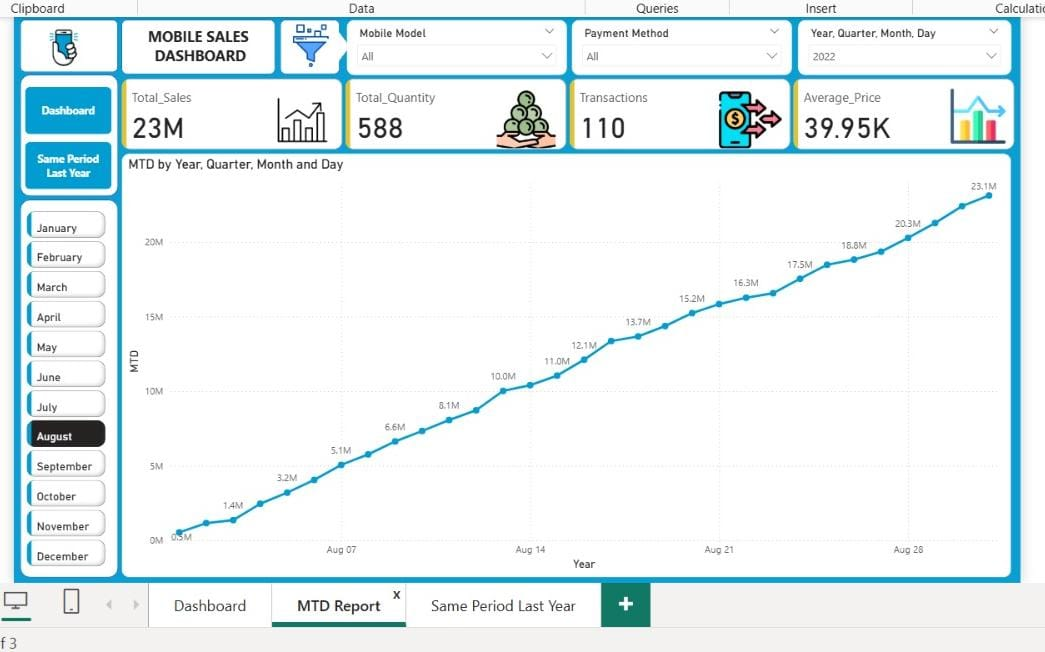

The dashboard page shown, as its layout file describes it:
{"tool":"powerbi","page":{"name":"MTD Report","canvas":[1280,720],"ordinal":1},"visuals":[{"type":"shape","box":[7.5,3.8,125,67.5],"z":0},{"type":"image","box":[23.8,3.8,78.8,71.2],"z":1000},{"type":"shape","box":[7.5,73.8,125,155],"z":2000},{"type":"cardVisual","fields":{"Data":["Sales_Data.Total_Sales","Sales_Data.Total_Quantity","Sales_Data.Transactions","Sales_Data.Average_Price"]},"box":[132.5,73.8,1147.5,100],"z":3000},{"type":"slicer","fields":{"Values":["Sales_Data.Mobile Model"]},"box":[423.8,3.8,281.2,71.2],"z":4000},{"type":"slicer","fields":{"Values":["Sales_Data.Payment Method"]},"box":[710,3.8,281.2,71.2],"z":5000},{"type":"slicer","fields":{"Values":["Custom_Calendar.Date.Variation.Date Hierarchy.Year","Custom_Calendar.Date.Variation.Date Hierarchy.Quarter","Custom_Calendar.Date.Variation.Date Hierarchy.Month","Custom_Calendar.Date.Variation.Date Hierarchy.Day"]},"box":[997.5,3.8,272.5,71.2],"z":6000},{"type":"shape","box":[338.8,3.8,76.2,70],"z":7000},{"type":"image","box":[337.5,3.8,81.2,66.2],"z":8000},{"type":"shape","box":[397.5,17.5,30,40],"z":9000},{"type":"shape","box":[137.5,3.8,196.2,70],"z":10000},{"type":"textbox","box":[156.2,6.2,162.5,63.8],"z":11000},{"type":"lineChart","fields":{"Y":["Sales_Data.MTD"],"Category":["Custom_Calendar.Date.Variation.Date Hierarchy.Year","Custom_Calendar.Date.Variation.Date Hierarchy.Quarter","Custom_Calendar.Date.Variation.Date Hierarchy.Month","Custom_Calendar.Date.Variation.Date Hierarchy.Day"]},"box":[137.5,173.8,1132.5,540],"z":12000},{"type":"shape","box":[7.5,232.5,125,481.2],"z":13000},{"type":"advancedSlicerVisual","fields":{"Values":["Custom_Calendar.Date.Variation.Date Hierarchy.Month"]},"box":[11.2,241.2,110,472.5],"z":14000},{"type":"pageNavigator","box":[15,88.8,110,130],"z":15000}]}

Visuals, with their boxes on the page's 1280x720 design canvas (x1, y1, x2, y2). These are canvas units, not pixel positions in the 1045x652 screenshot, which may show the page scaled, cropped or inside an application window:
shape: rect(8, 4, 132, 71)
image: rect(24, 4, 103, 75)
shape: rect(8, 74, 132, 229)
cardVisual - Sales_Data.Total_Sales x Sales_Data.Total_Quantity: rect(132, 74, 1280, 174)
slicer - Sales_Data.Mobile Model: rect(424, 4, 705, 75)
slicer - Sales_Data.Payment Method: rect(710, 4, 991, 75)
slicer - Custom_Calendar.Date.Variation.Date Hierarchy.Year x Custom_Calendar.Date.Variation.Date Hierarchy.Quarter: rect(998, 4, 1270, 75)
shape: rect(339, 4, 415, 74)
image: rect(338, 4, 419, 70)
shape: rect(398, 18, 428, 58)
shape: rect(138, 4, 334, 74)
textbox: rect(156, 6, 319, 70)
lineChart - Sales_Data.MTD x Custom_Calendar.Date.Variation.Date Hierarchy.Year: rect(138, 174, 1270, 714)
shape: rect(8, 232, 132, 714)
advancedSlicerVisual - Custom_Calendar.Date.Variation.Date Hierarchy.Month: rect(11, 241, 121, 714)
pageNavigator: rect(15, 89, 125, 219)
